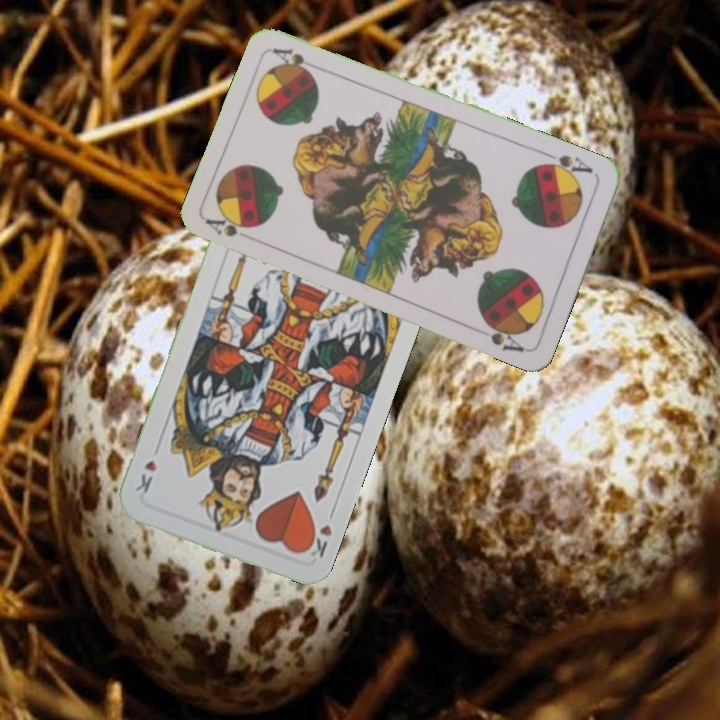HK: (300, 504, 338, 560)
SA: (538, 148, 596, 182), (202, 211, 258, 240)
